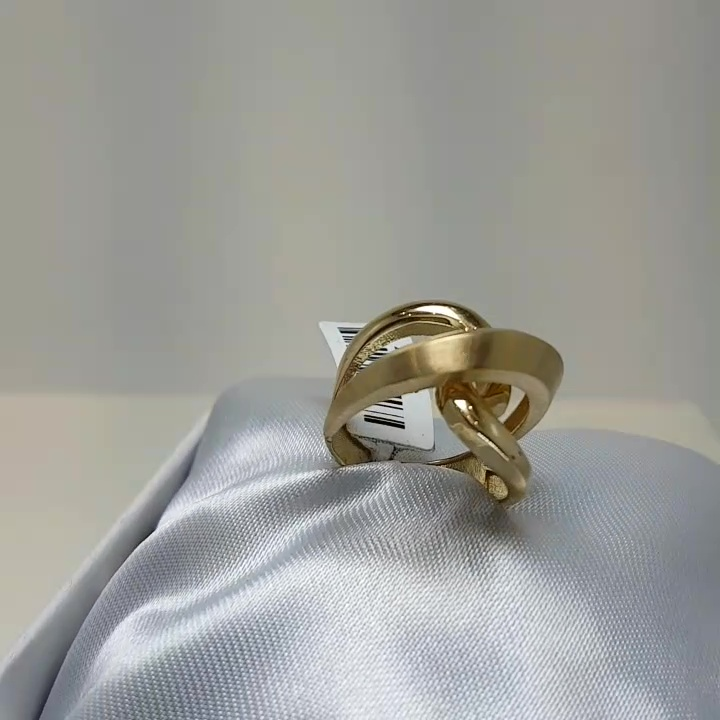Ring 3: (312, 273, 594, 528)
